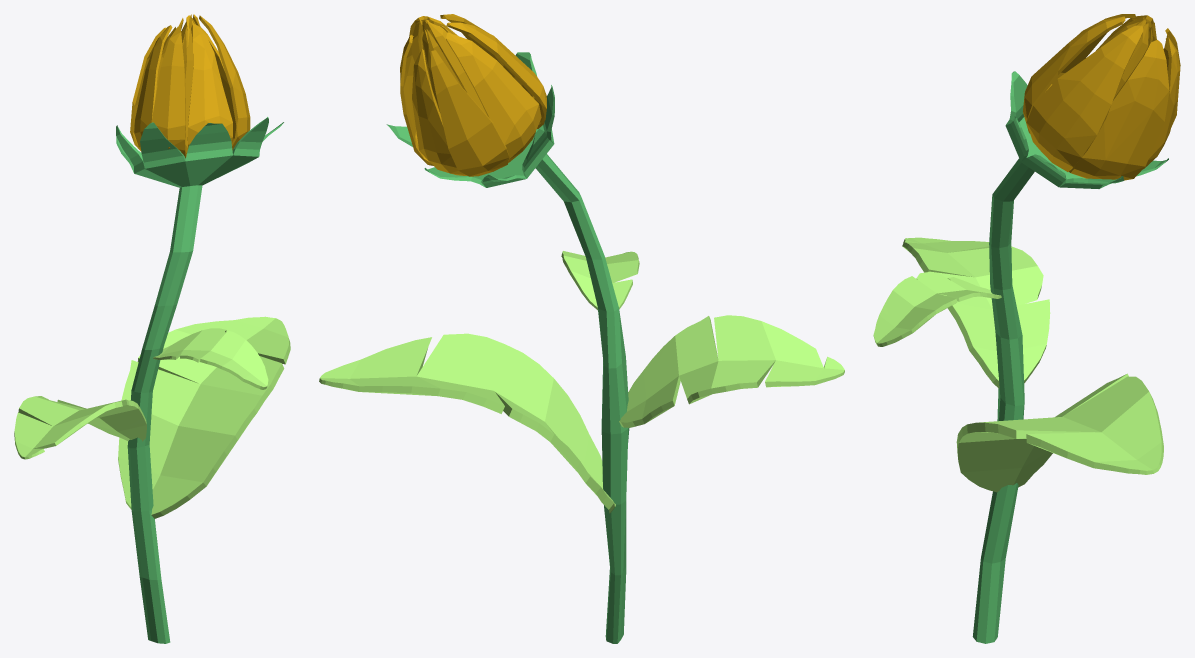
File: Flower_12.fbx
3 views of the same model, side by side, from view 1: azimuth 30°, elevation 25°; view 2: azimuth 150°, elevation 25°; view 3: azimuth 270°, elevation 25° (orthographic). The views are drawn at different scales.
Visible parts, largest first — view 1: Flower_12; view 2: Flower_12; view 3: Flower_12.
Boxes of the visible parts, x1=… form: Flower_12: x1=14, y1=14, x2=290, y2=643; Flower_12: x1=319, y1=14, x2=844, y2=643; Flower_12: x1=873, y1=14, x2=1180, y2=643.
Size of the model in its own units: 49.51 by 74.68 by 30.57.
